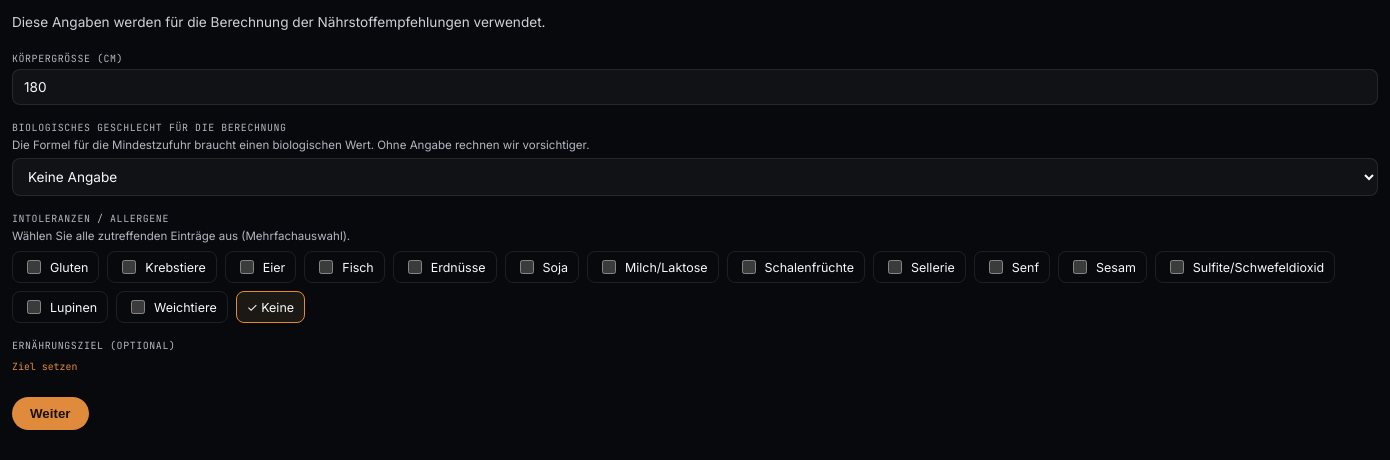
NutritionStep › zeigt Fehler bei leerer Größe
The width and height of the screenshot is (1390, 460).
Clear the field: [695, 87] box [12, 69, 1378, 105]
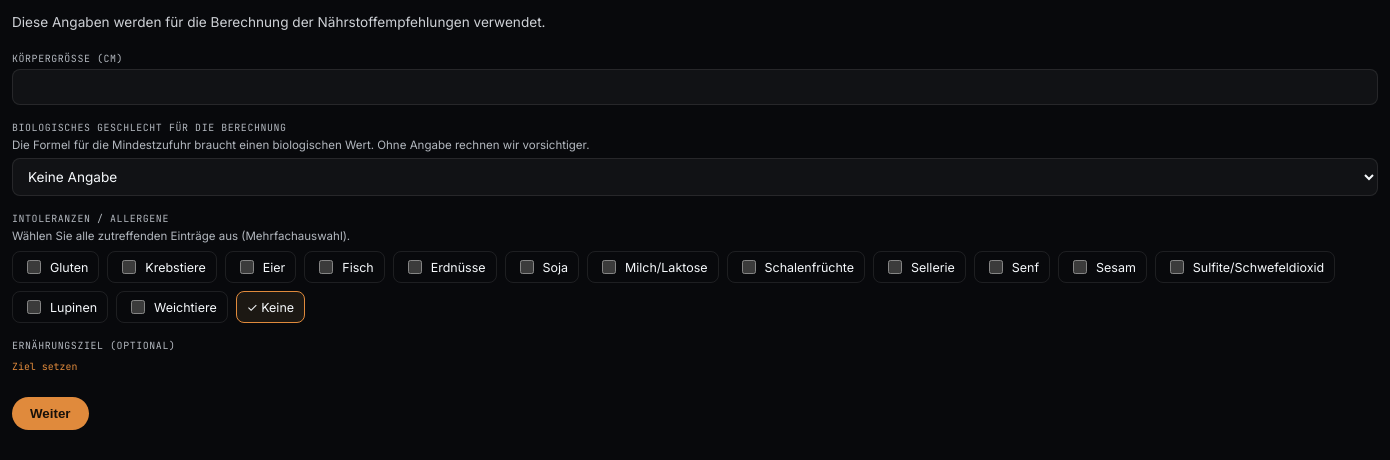
Leave the field, box [12, 69, 1378, 105]
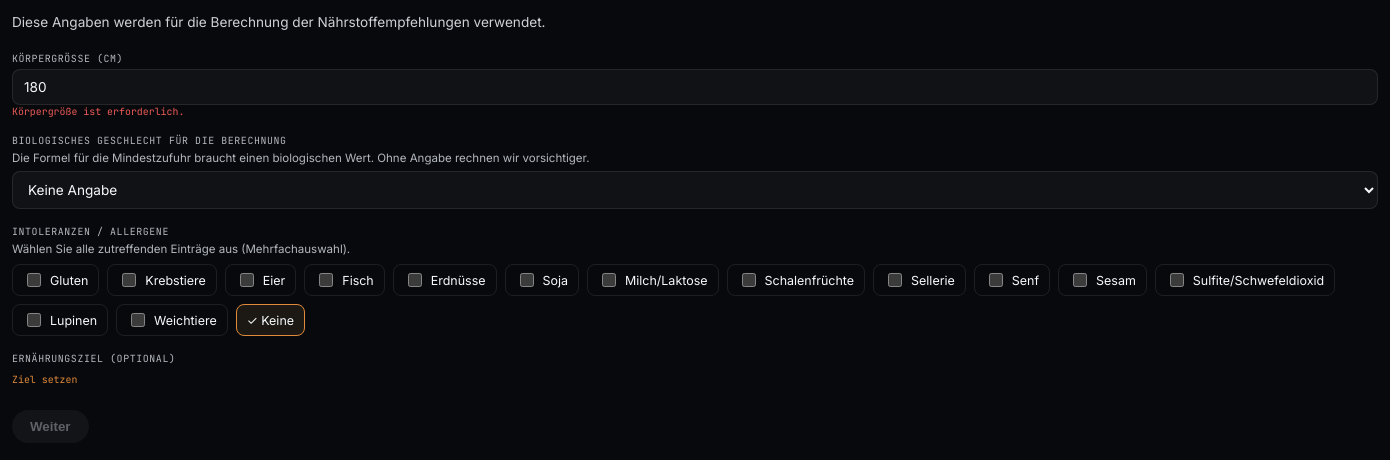
Expected: the text "Körpergröße ist erforderlich." is shown, [12, 105, 184, 118]
